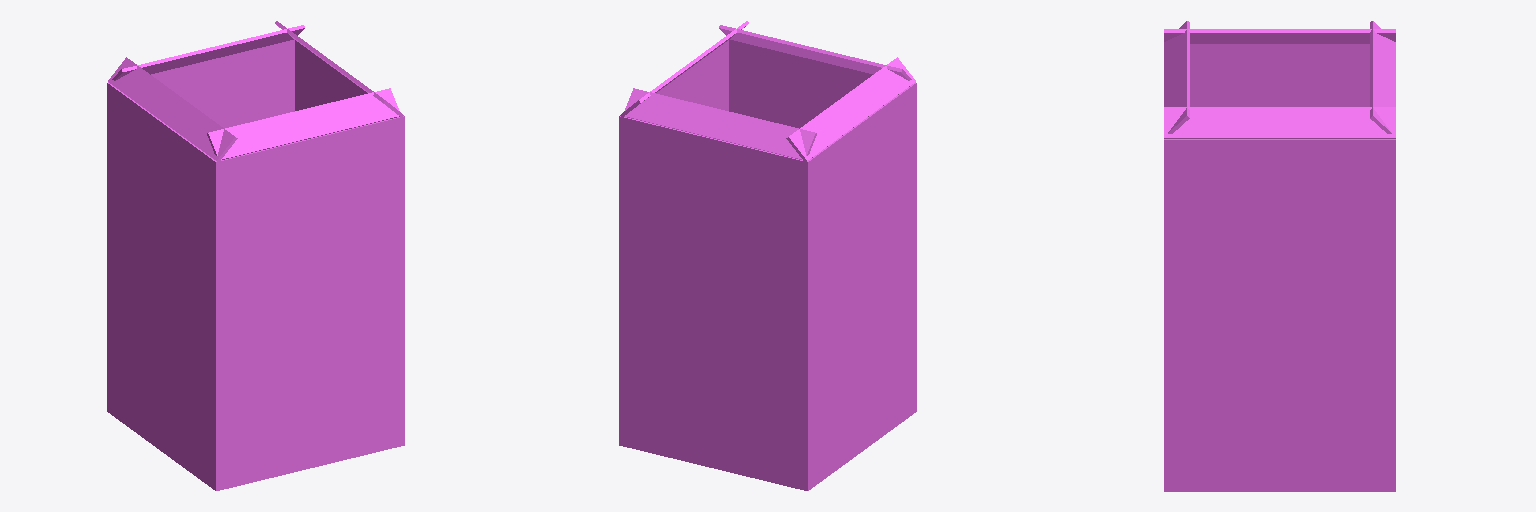
The robot description file, URDF, robot "container1":
<?xml version="1.0" ?>
<!-- =================================================================================== -->
<!-- |    This document was autogenerated by xacro from data/container1.urdf.xacro     | -->
<!-- |    EDITING THIS FILE BY HAND IS NOT RECOMMENDED                                 | -->
<!-- =================================================================================== -->
<!-- Source container of ode_grpour_sim -->
<robot name="container1" xmlns:xacro="http://www.ros.org/wiki/xacro">
  <material name="container_material">
    <color rgba="1 0.5 1 1"/>
  </material>
  <link name="base_link">
    <contact>
      <rolling_friction value="0.1"/>
      <spinning_friction value="0.1"/>
    </contact>
    <inertial>
      <origin rpy="0 0 0" xyz="0 0 0"/>
      <mass value="1"/>
      <inertia ixx="1" ixy="0" ixz="0" iyy="1" iyz="0" izz="1"/>
    </inertial>
    <visual>
      <origin rpy="0 0 0" xyz="0.0 0.0 0.0025"/>
      <geometry>
        <box size="0.29 0.29 0.005"/>
      </geometry>
      <material name="container_material"/>
    </visual>
    <collision>
      <origin rpy="0 0 0" xyz="0.0 0.0 0.0025"/>
      <geometry>
        <box size="0.29 0.29 0.005"/>
      </geometry>
    </collision>
    <visual>
      <origin rpy="0 0 0" xyz="0.1475 0.0 0.25"/>
      <geometry>
        <box size="0.005 0.3 0.5"/>
      </geometry>
      <material name="container_material"/>
    </visual>
    <collision>
      <origin rpy="0 0 0" xyz="0.1475 0.0 0.25"/>
      <geometry>
        <box size="0.005 0.3 0.5"/>
      </geometry>
    </collision>
    <visual>
      <origin rpy="0 0 0" xyz="-0.1475 0.0 0.25"/>
      <geometry>
        <box size="0.005 0.3 0.5"/>
      </geometry>
      <material name="container_material"/>
    </visual>
    <collision>
      <origin rpy="0 0 0" xyz="-0.1475 0.0 0.25"/>
      <geometry>
        <box size="0.005 0.3 0.5"/>
      </geometry>
    </collision>
    <visual>
      <origin rpy="0 0 0" xyz="0.0 0.1475 0.25"/>
      <geometry>
        <box size="0.29 0.005 0.5"/>
      </geometry>
      <material name="container_material"/>
    </visual>
    <collision>
      <origin rpy="0 0 0" xyz="0.0 0.1475 0.25"/>
      <geometry>
        <box size="0.29 0.005 0.5"/>
      </geometry>
    </collision>
    <visual>
      <origin rpy="0 0 0" xyz="0.0 -0.1475 0.25"/>
      <geometry>
        <box size="0.29 0.005 0.5"/>
      </geometry>
      <material name="container_material"/>
    </visual>
    <collision>
      <origin rpy="0 0 0" xyz="0.0 -0.1475 0.25"/>
      <geometry>
        <box size="0.29 0.005 0.5"/>
      </geometry>
    </collision>
    <visual>
      <origin rpy="0 -0.785398163397 0" xyz="0.1325 0.0 0.515"/>
      <geometry>
        <box size="0.005 0.3 0.0424264068712"/>
      </geometry>
      <material name="container_material"/>
    </visual>
    <collision>
      <origin rpy="0 -0.785398163397 0" xyz="0.1325 0.0 0.515"/>
      <geometry>
        <box size="0.005 0.3 0.0424264068712"/>
      </geometry>
    </collision>
    <visual>
      <origin rpy="0 0.785398163397 0" xyz="-0.1325 0.0 0.515"/>
      <geometry>
        <box size="0.005 0.3 0.0424264068712"/>
      </geometry>
      <material name="container_material"/>
    </visual>
    <collision>
      <origin rpy="0 0.785398163397 0" xyz="-0.1325 0.0 0.515"/>
      <geometry>
        <box size="0.005 0.3 0.0424264068712"/>
      </geometry>
    </collision>
    <visual>
      <origin rpy="0.785398163397 0 0" xyz="0.0 0.1325 0.515"/>
      <geometry>
        <box size="0.29 0.005 0.0424264068712"/>
      </geometry>
      <material name="container_material"/>
    </visual>
    <collision>
      <origin rpy="0.785398163397 0 0" xyz="0.0 0.1325 0.515"/>
      <geometry>
        <box size="0.29 0.005 0.0424264068712"/>
      </geometry>
    </collision>
    <visual>
      <origin rpy="-0.785398163397 0 0" xyz="0.0 -0.1325 0.515"/>
      <geometry>
        <box size="0.29 0.005 0.0424264068712"/>
      </geometry>
      <material name="container_material"/>
    </visual>
    <collision>
      <origin rpy="-0.785398163397 0 0" xyz="0.0 -0.1325 0.515"/>
      <geometry>
        <box size="0.29 0.005 0.0424264068712"/>
      </geometry>
    </collision>
  </link>
</robot>

--- Facts derived from the render (not from the file) ---
The picture shows the robot from 3 angles, left to right: view 1: azimuth 30°, elevation 25°; view 2: azimuth 150°, elevation 25°; view 3: azimuth 270°, elevation 25°; orthographic projection.
Robot: container1 — 1 links, 0 joints (none); root link base_link; default pose: all joints at 0.
Links seen in each view (by area): view 1: base_link; view 2: base_link; view 3: base_link.
Link boxes in pixels (x1,y1,x2,y2): base_link: [107, 21, 404, 490]; base_link: [619, 21, 916, 490]; base_link: [1164, 21, 1395, 491].
Size in the robot's own frame: 0.3 by 0.3 by 0.5318 metres.
Geometry: primitives only (box / cylinder / sphere), no mesh files.
